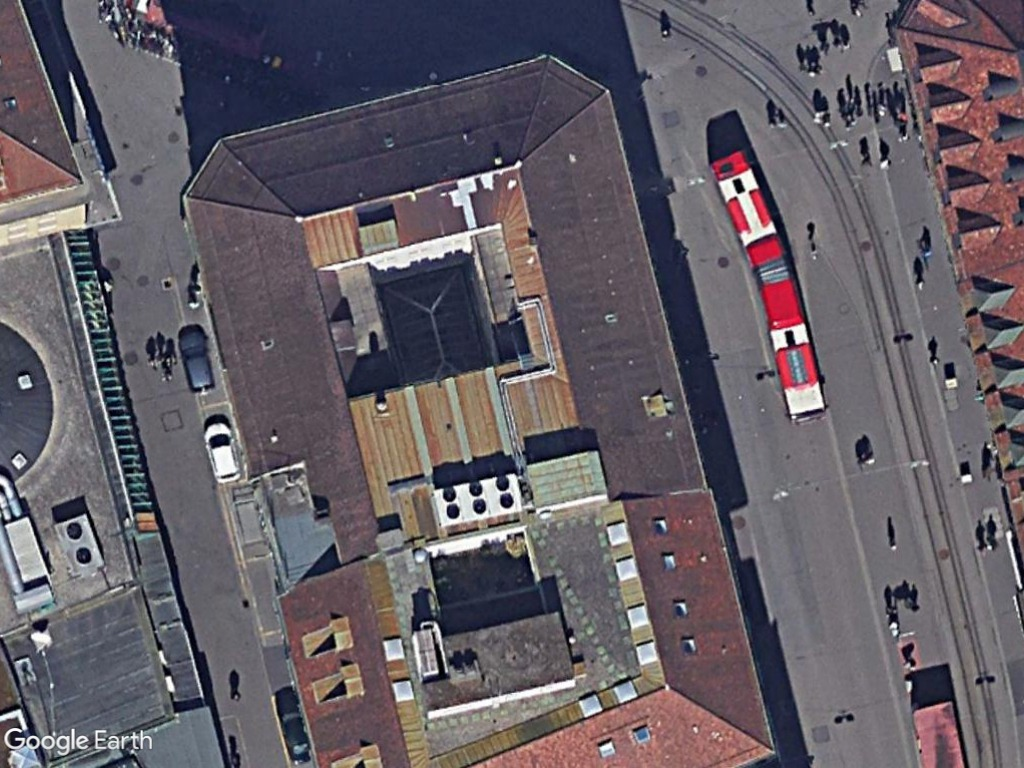bus: (709, 147, 788, 269), (761, 280, 829, 419)
car: (174, 325, 220, 395), (204, 419, 244, 485)
